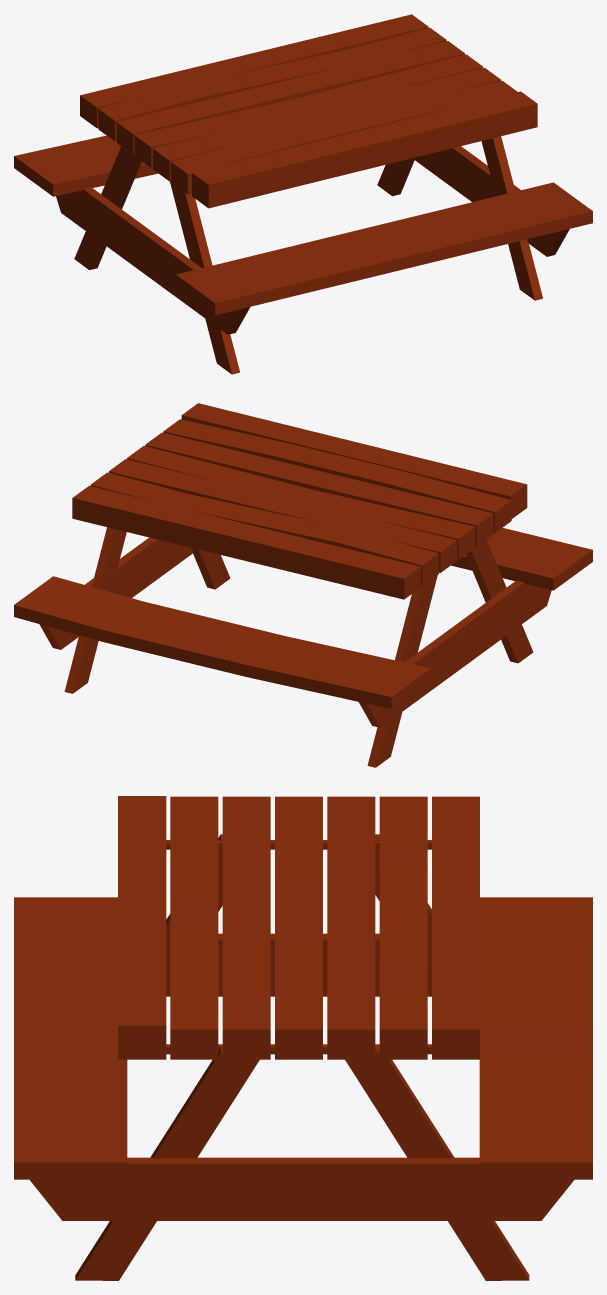
Rendered from Tavolo.fbx.
3 renders of one model, top to bottom at view 1: azimuth 30°, elevation 25°; view 2: azimuth 150°, elevation 25°; view 3: azimuth 270°, elevation 25°, orthographic. The views are drawn at different scales.
Parts seen in each view (by area): view 1: Tavolo; view 2: Tavolo; view 3: Tavolo.
Part boxes in pixels (bbox=[...]): Tavolo: bbox=[14, 14, 592, 374]; Tavolo: bbox=[14, 403, 592, 767]; Tavolo: bbox=[14, 796, 592, 1280].
Bounding box in the file's own units: 2.28 × 1.05 × 2.1.
